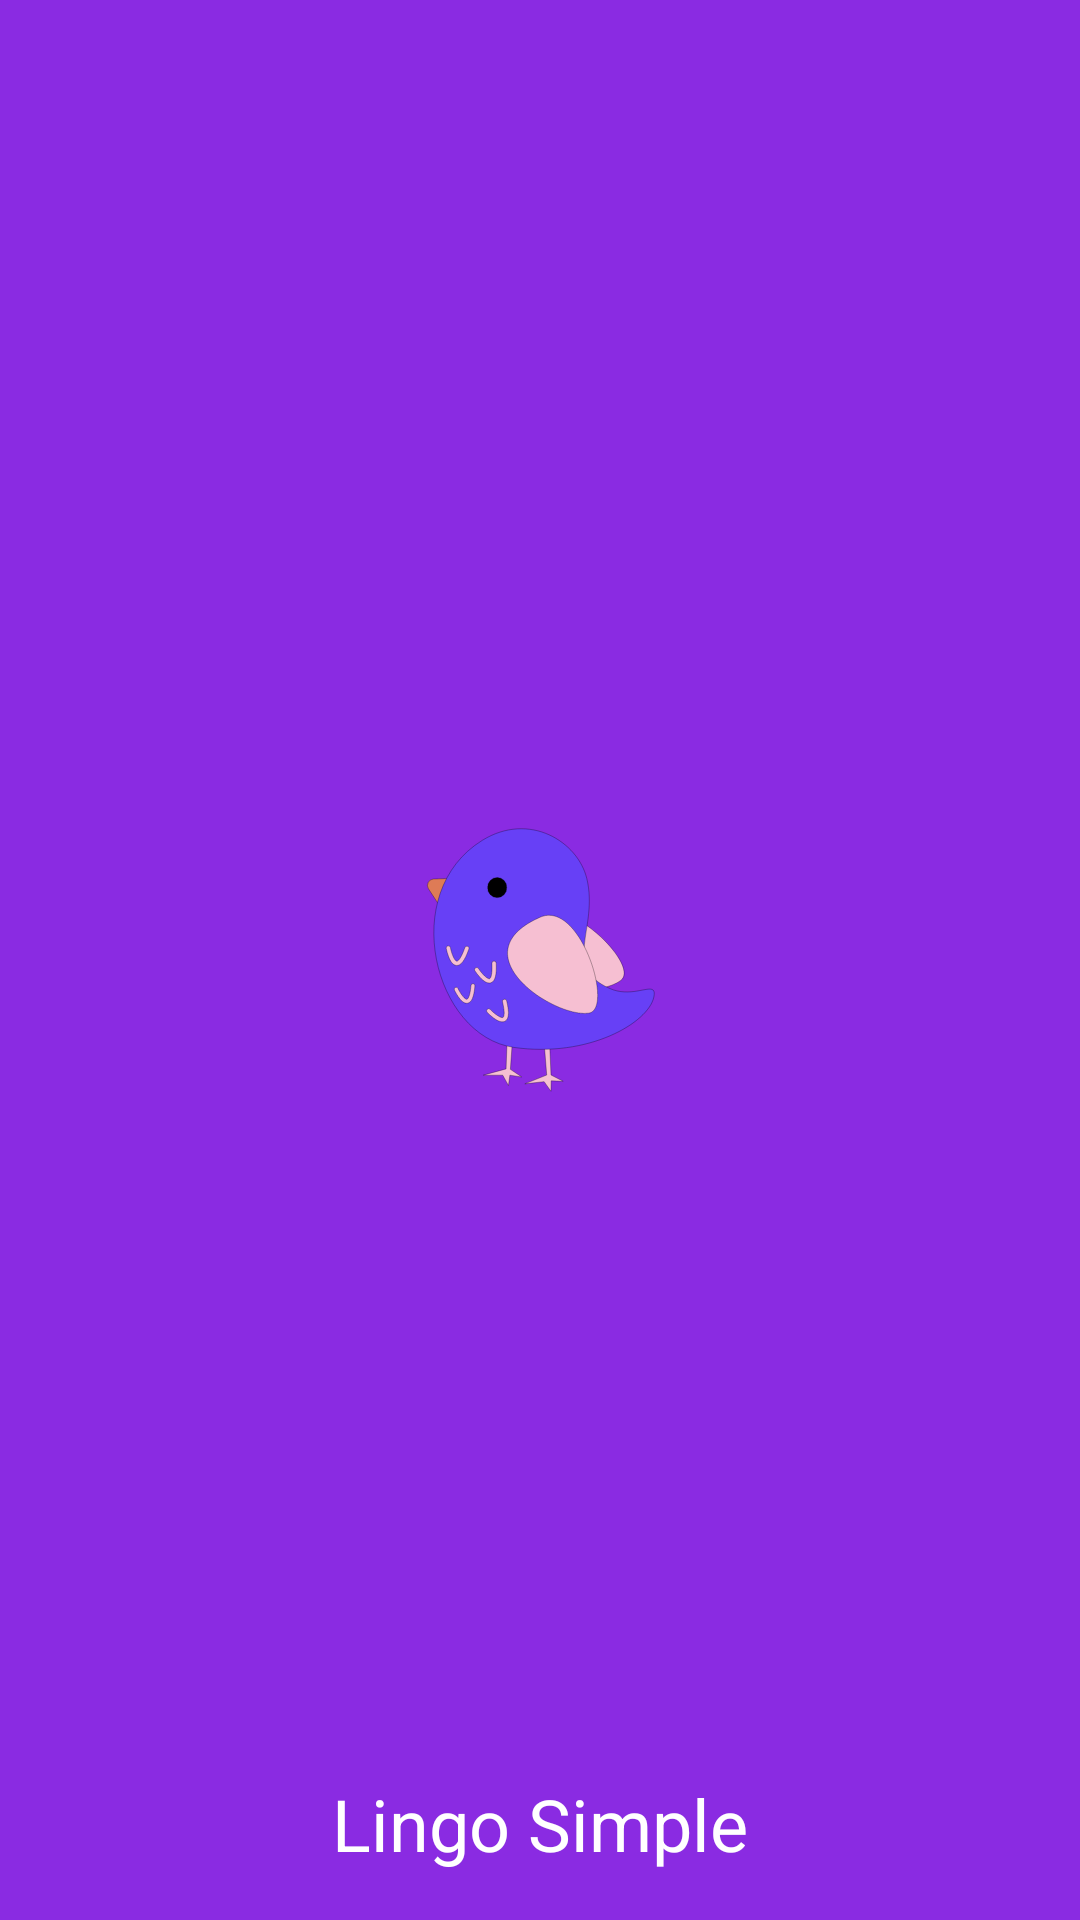

Locate icon controls on the screen. Image size 1080 × 1920, boxes as BBox(x1, y1, x2, y2).
bird: BBox(427, 828, 655, 1091)
